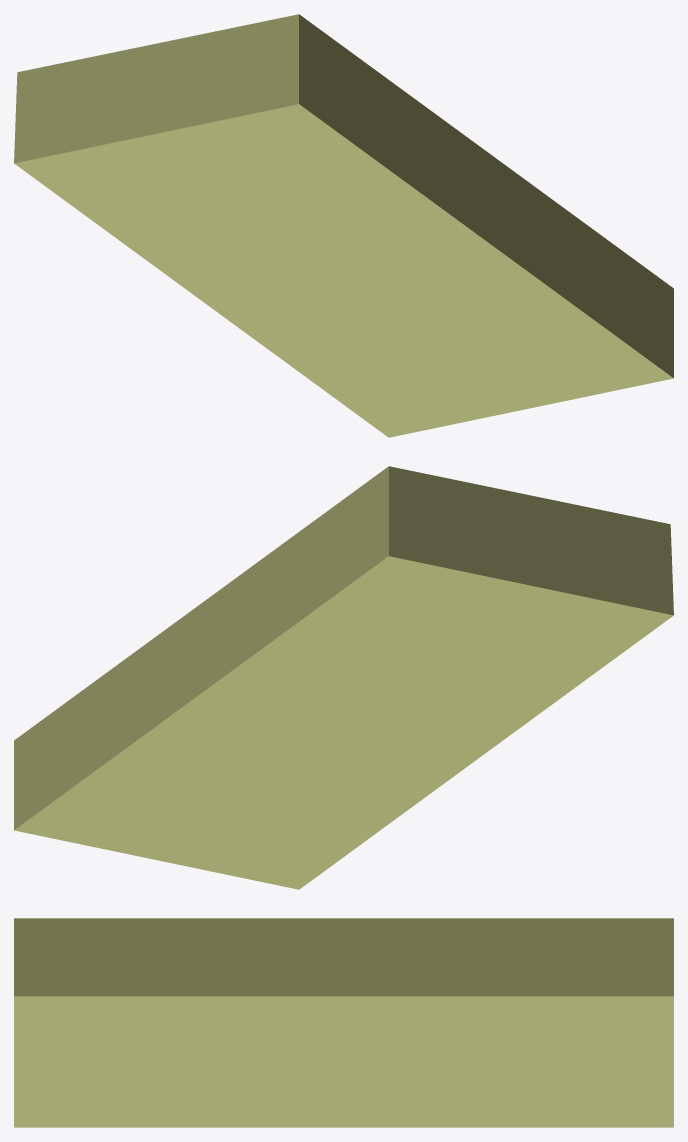
3 views of the same model, one above another, from view 1: azimuth 30°, elevation 25°; view 2: azimuth 150°, elevation 25°; view 3: azimuth 270°, elevation 25° (orthographic). The views are drawn at different scales.
Parts seen in each view (by area): view 1: 0_2_1_3_0_0_2_0_0_2_2; view 2: 0_2_1_3_0_0_2_0_0_2_2; view 3: 0_2_1_3_0_0_2_0_0_2_2.
Part boxes in pixels (left/top/right/bottom): 0_2_1_3_0_0_2_0_0_2_2: left=14, top=14, right=673, bottom=437; 0_2_1_3_0_0_2_0_0_2_2: left=14, top=466, right=673, bottom=889; 0_2_1_3_0_0_2_0_0_2_2: left=14, top=918, right=673, bottom=1127.
Size of the model in its own units: 3.95 by 1.33 by 9.
